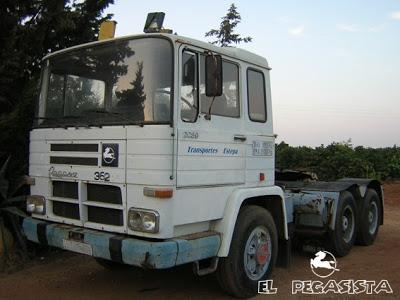truck: (15, 11, 384, 298)
